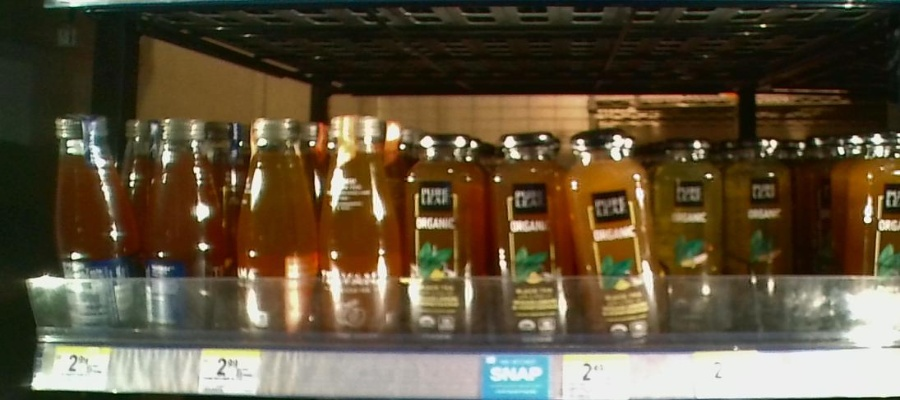bottle: (48, 89, 139, 338), (402, 106, 488, 363), (143, 86, 225, 341), (229, 112, 317, 348), (321, 105, 399, 352), (571, 120, 657, 342), (491, 111, 569, 353), (728, 131, 799, 349), (660, 135, 726, 346), (851, 135, 900, 348)
